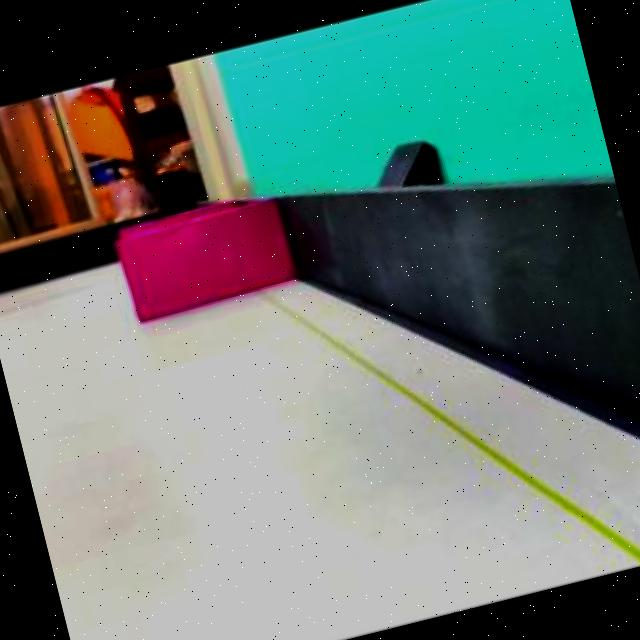xparking: (117, 204, 292, 316)
